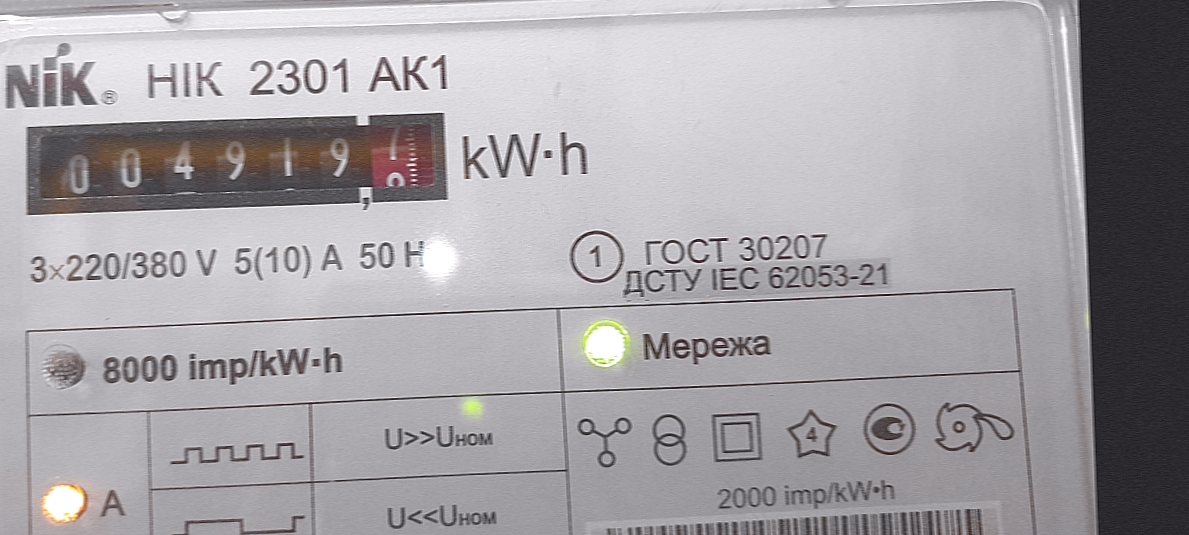0: (115, 142, 143, 188), (64, 149, 90, 193)
1: (277, 131, 294, 177)
4: (168, 135, 194, 179)
7: (378, 121, 403, 161)
9: (325, 131, 350, 179), (221, 136, 246, 181)
screen: (10, 95, 464, 231)
